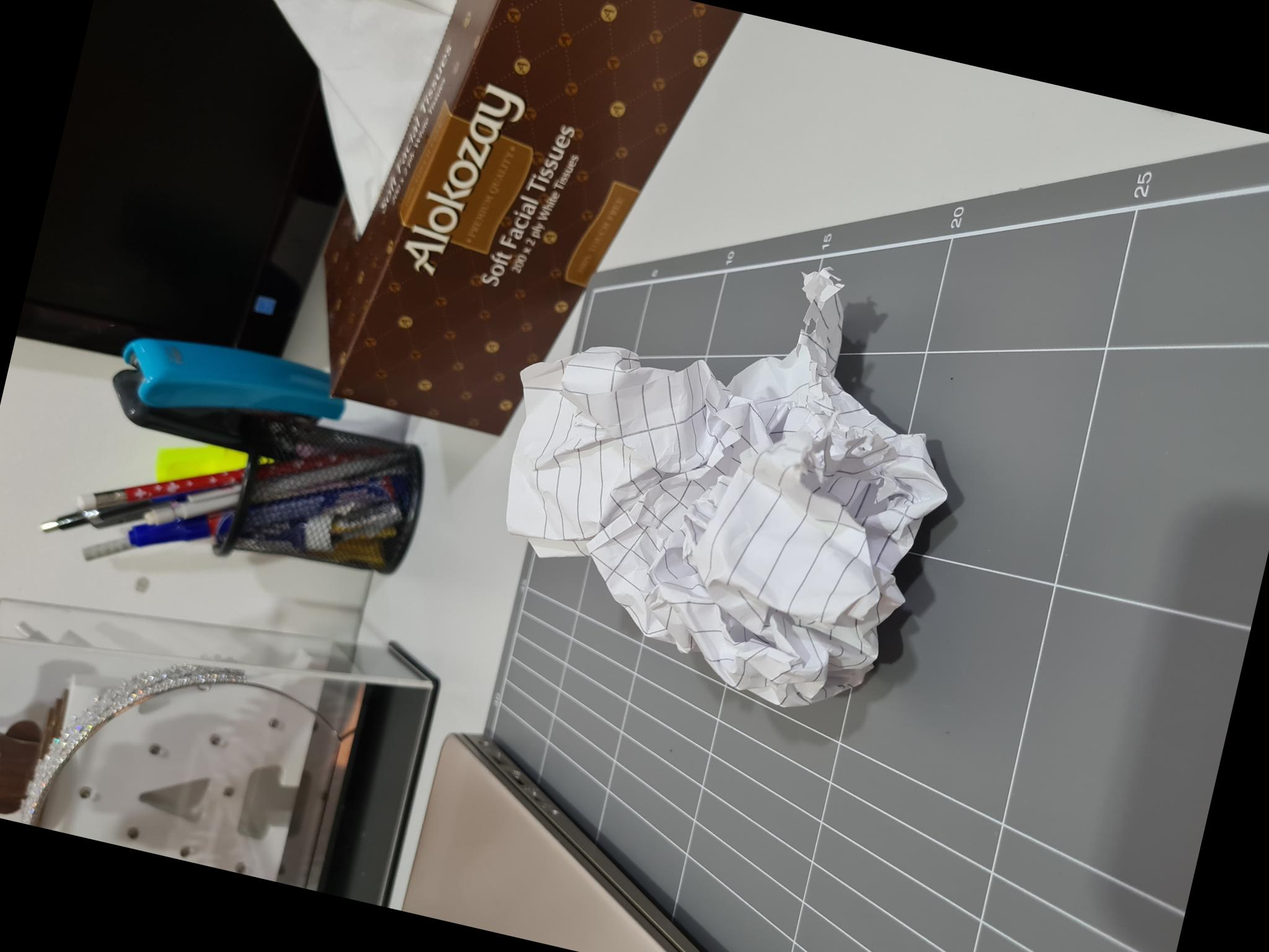Kertas: (214, 468, 649, 906), (690, 232, 1011, 432)
